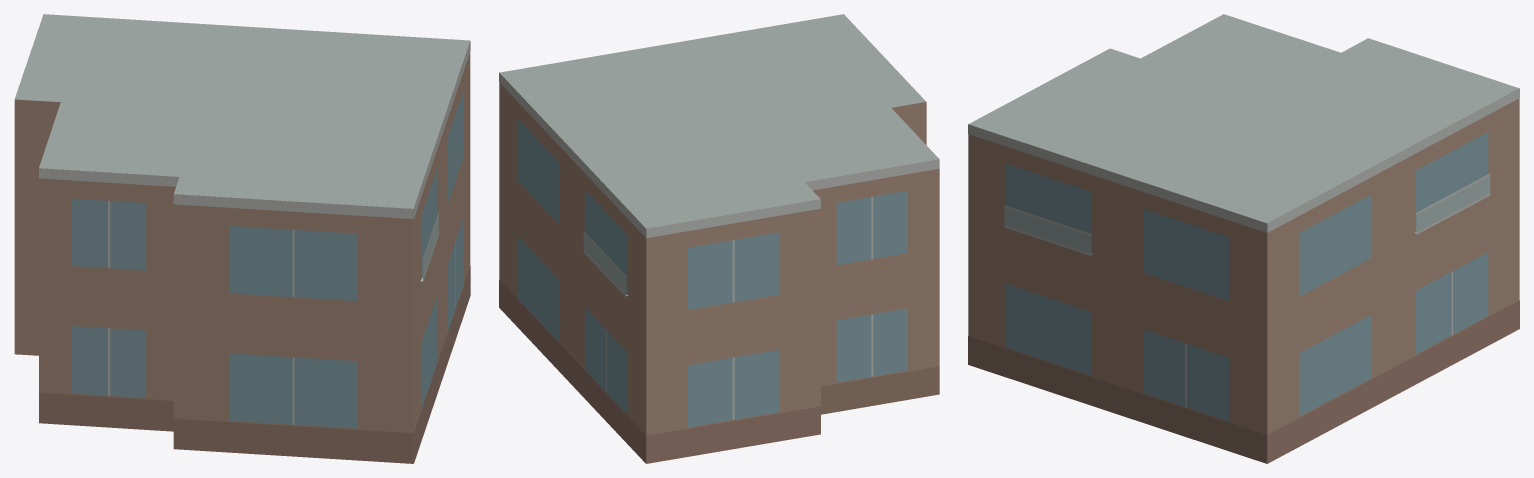
The model's file is survey-upis-32779438.glb.
The picture shows the model from 3 angles, left to right: view 1: azimuth 30°, elevation 25°; view 2: azimuth 150°, elevation 25°; view 3: azimuth 270°, elevation 25°; orthographic projection. The views are drawn at different scales.
Visible parts, largest first — view 1: survey-upis-32779438.tmp; view 2: survey-upis-32779438.tmp; view 3: survey-upis-32779438.tmp.
Part boxes in pixels (x1,y1,x2,y2): survey-upis-32779438.tmp: (14, 14, 470, 463); survey-upis-32779438.tmp: (499, 14, 939, 463); survey-upis-32779438.tmp: (968, 14, 1519, 463).
Bounding box in the file's own units: 11.39 × 6.1 × 12.69.
